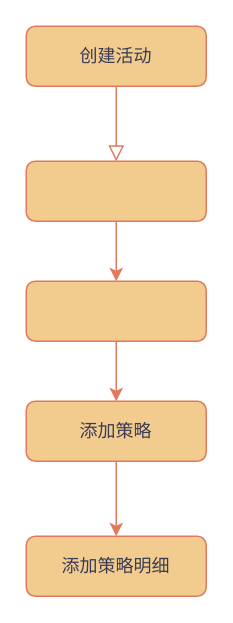
The diagram is 233 pixels wide and 623 high, and some of its shapes have lost their labels. The centre of each missing label's shape, as x and y in pixels:
"添加奖品配置" goes at pixel 115 310.
"添加活动配置" goes at pixel 115 190.
